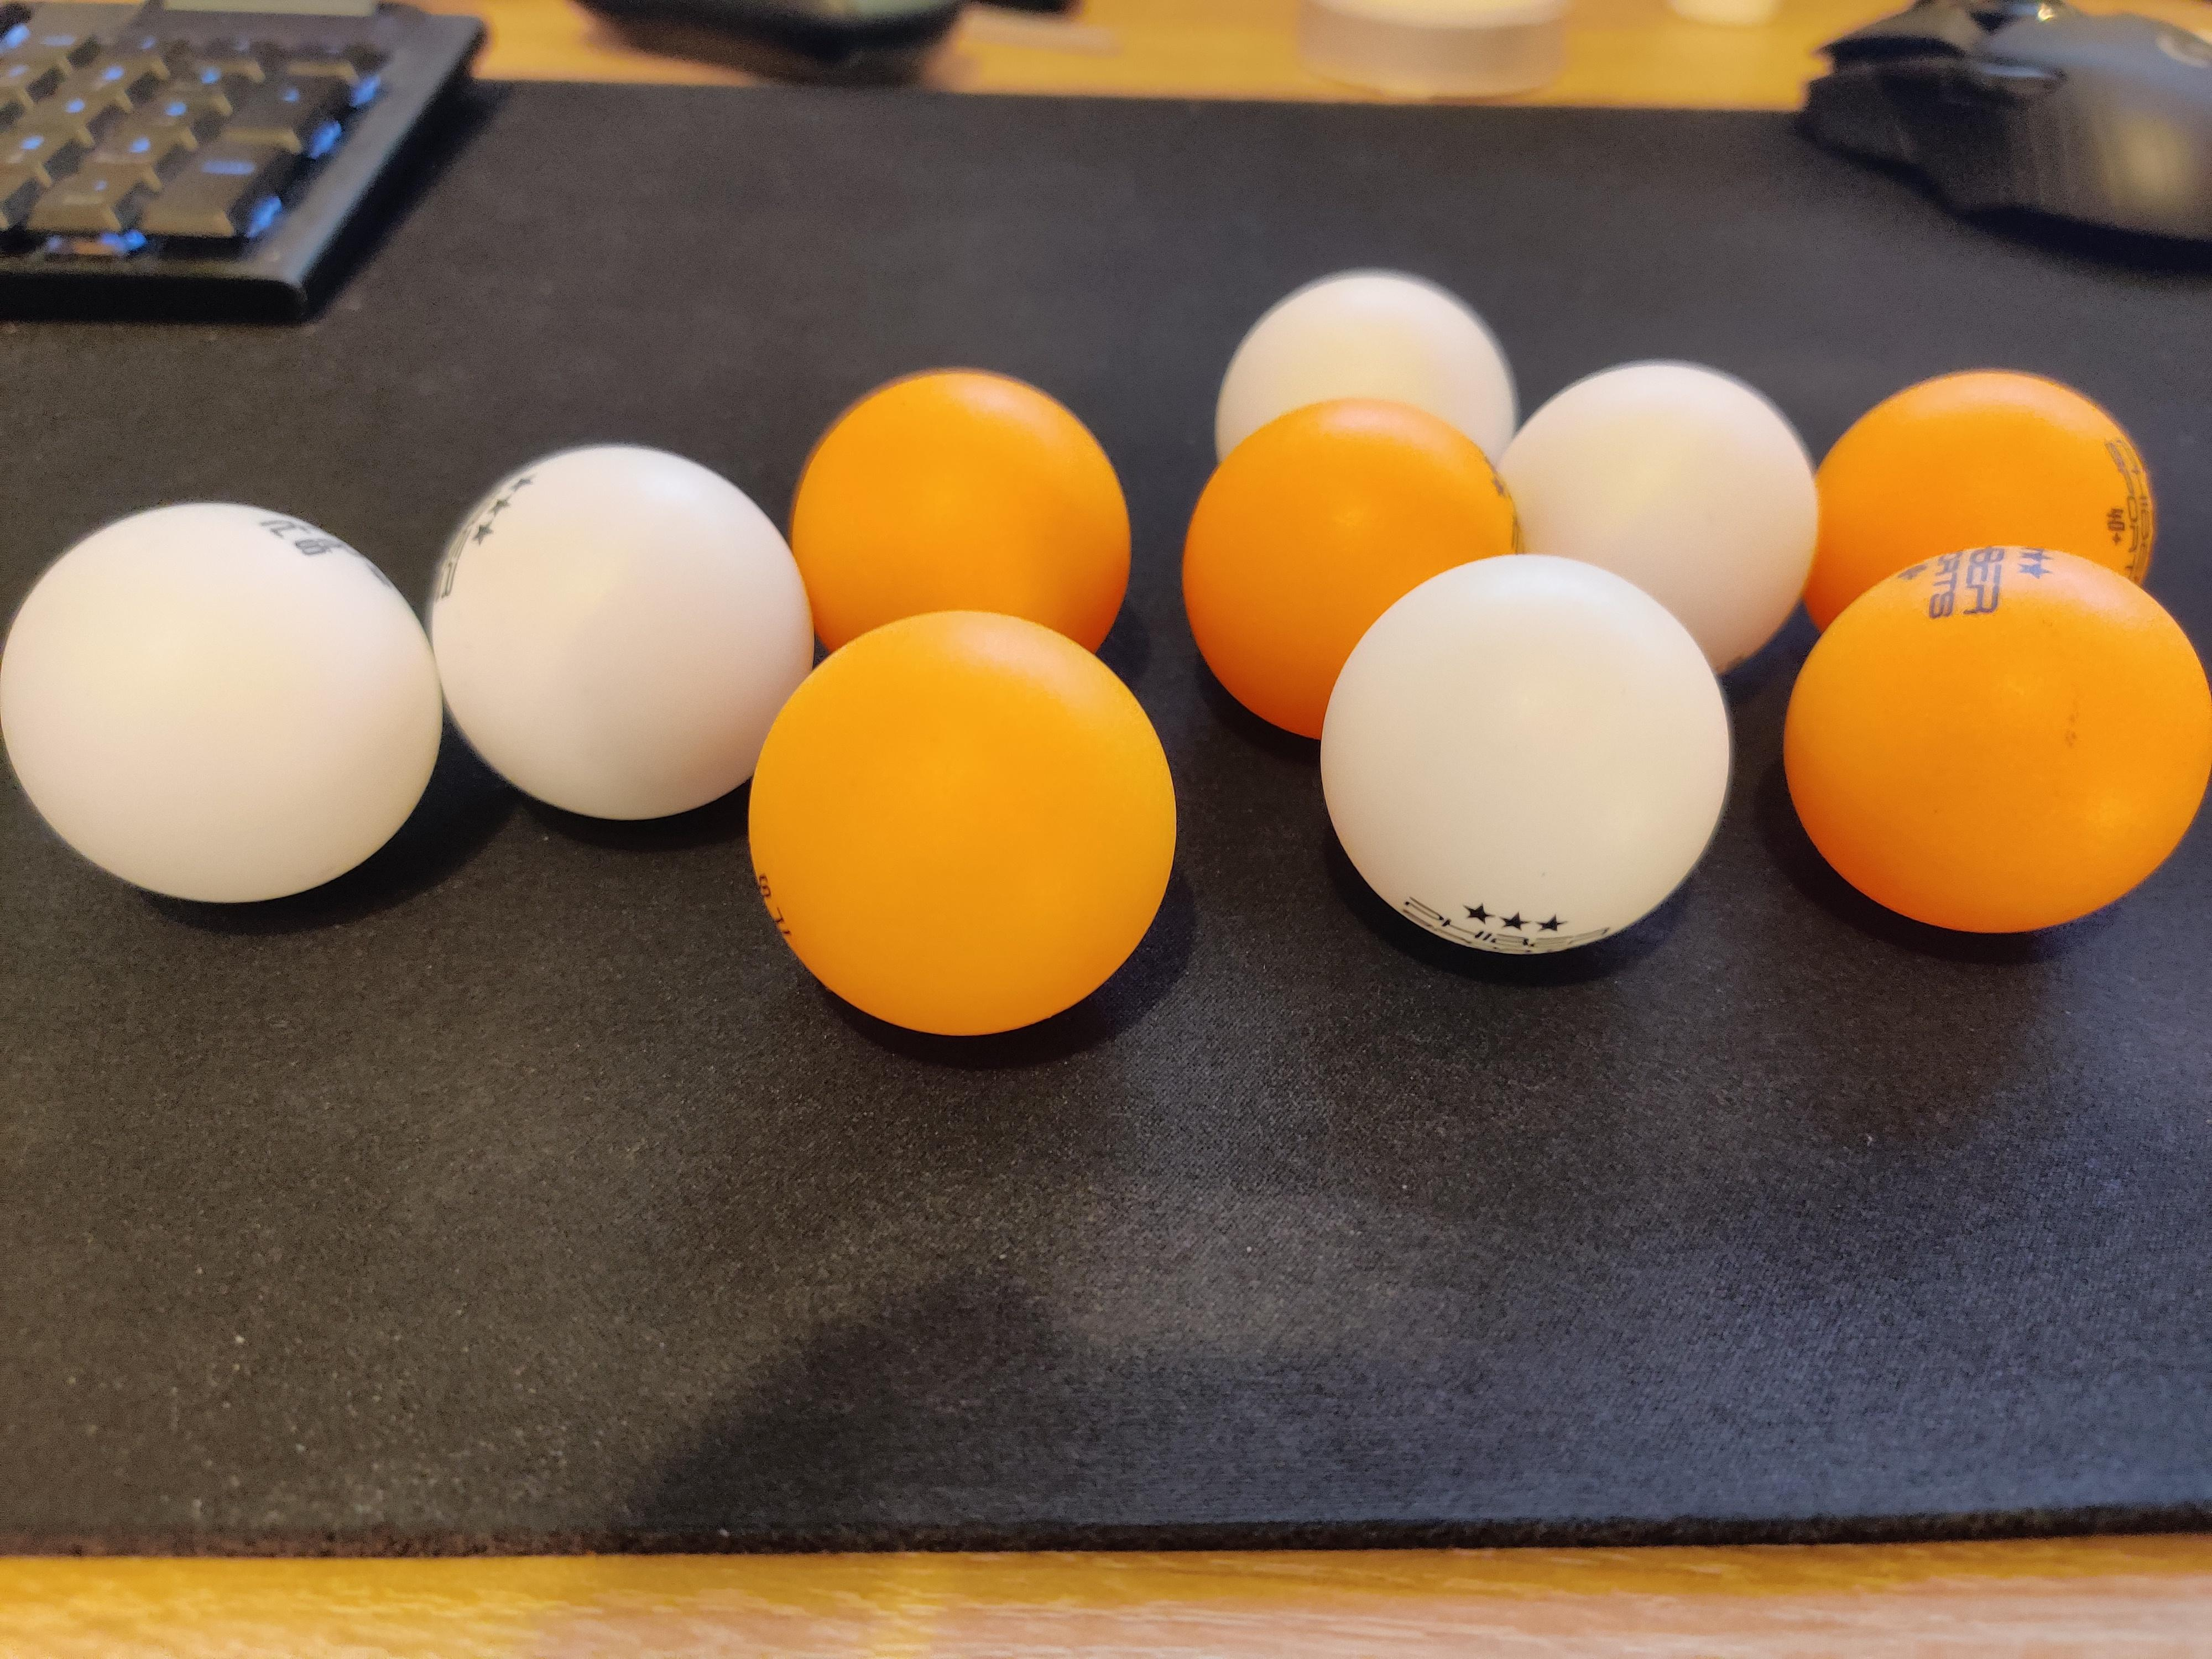orange: (745, 608, 1181, 1040), (1780, 542, 2209, 943), (1179, 394, 1527, 741), (789, 366, 1132, 662), (1803, 371, 2160, 643)
white: (0, 495, 448, 908), (1312, 545, 1735, 960), (427, 432, 819, 826), (1493, 356, 1825, 674), (1214, 268, 1521, 521)
